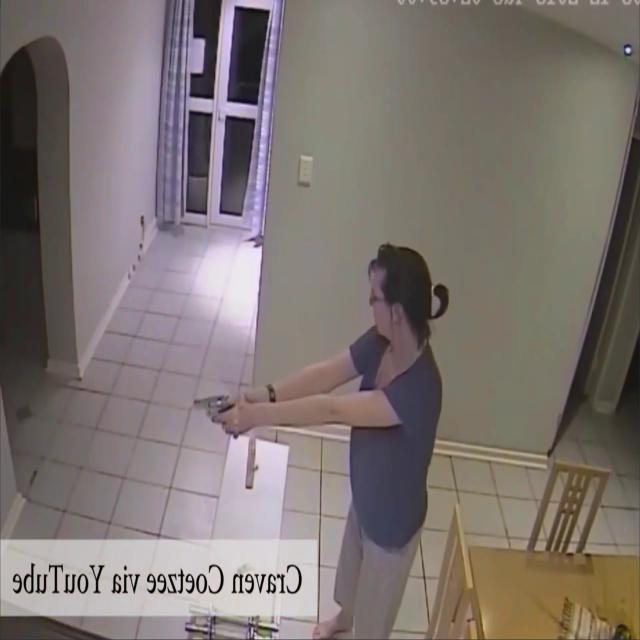Gun: (192, 394, 238, 440)
